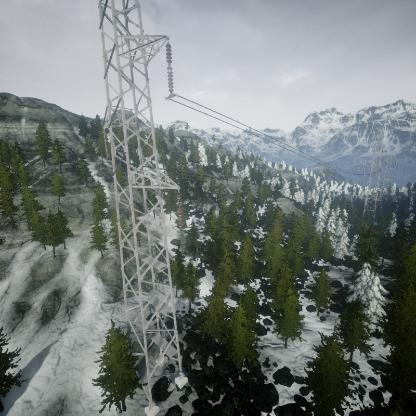tower: (95, 1, 191, 416)
